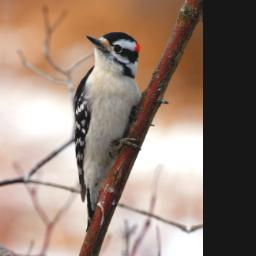Woodpecker: (67, 29, 149, 236)
